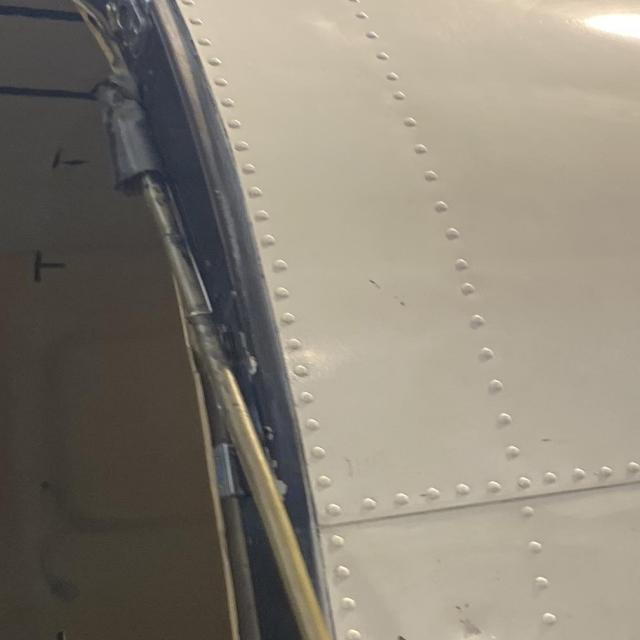Dent: (427, 589, 530, 640)
